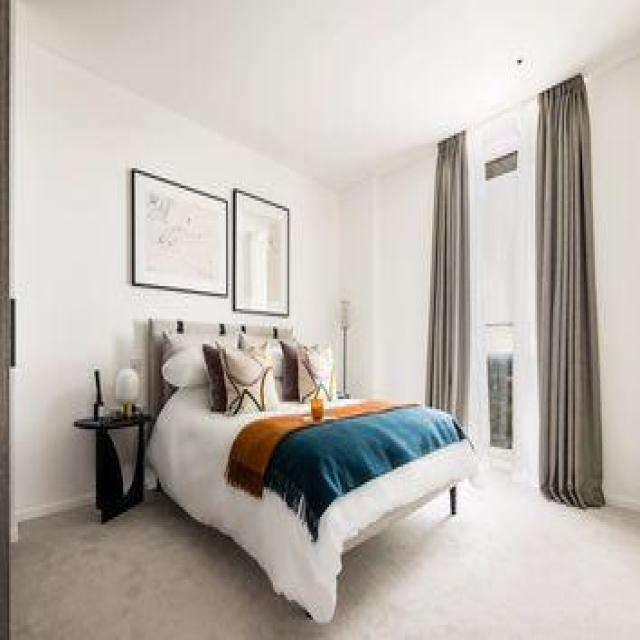Wall: (10, 3, 339, 535), (29, 1, 640, 187), (11, 474, 640, 639), (586, 56, 640, 506), (340, 153, 434, 400)
